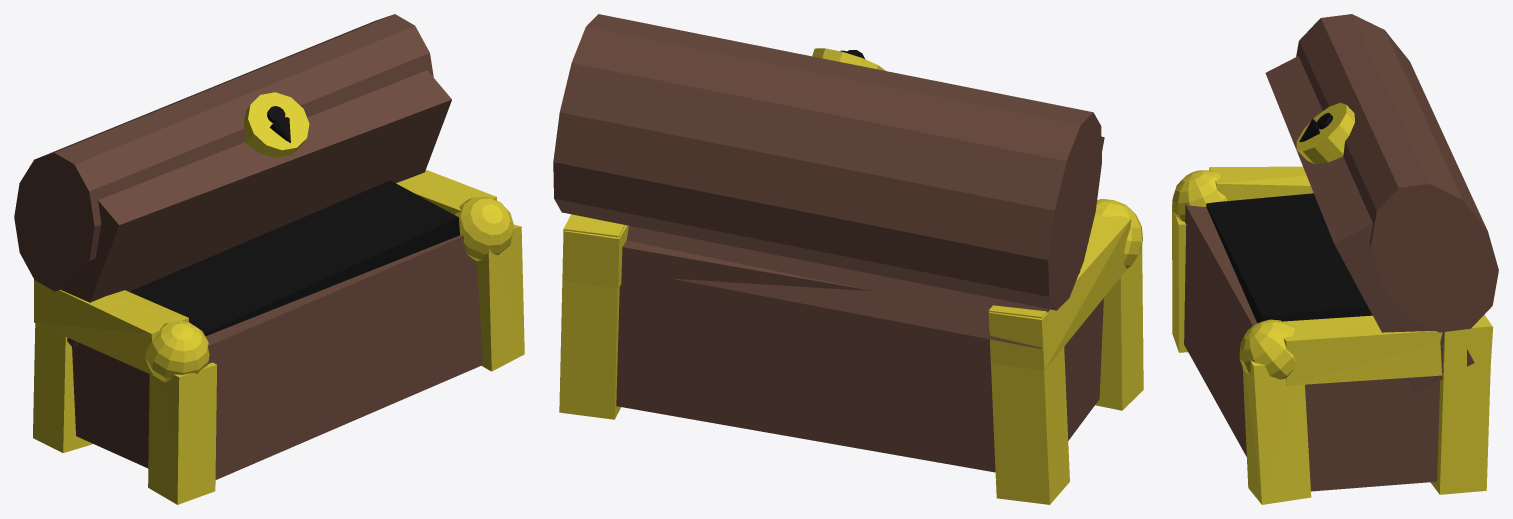
3 renders of one model, left to right at view 1: azimuth 30°, elevation 25°; view 2: azimuth 150°, elevation 25°; view 3: azimuth 270°, elevation 25°, orthographic. The views are drawn at different scales.
Parts seen in each view (by area): view 1: node_MeshObject-1296911360-PolyPaper21; view 2: node_MeshObject-1296911360-PolyPaper21; view 3: node_MeshObject-1296911360-PolyPaper21.
Part boxes in pixels (x1,y1,x2,y2): node_MeshObject-1296911360-PolyPaper21: [14, 14, 524, 504]; node_MeshObject-1296911360-PolyPaper21: [553, 14, 1143, 504]; node_MeshObject-1296911360-PolyPaper21: [1172, 14, 1498, 504].
Bounding box in the file's own units: 0.8332 × 0.5947 × 0.5344.
